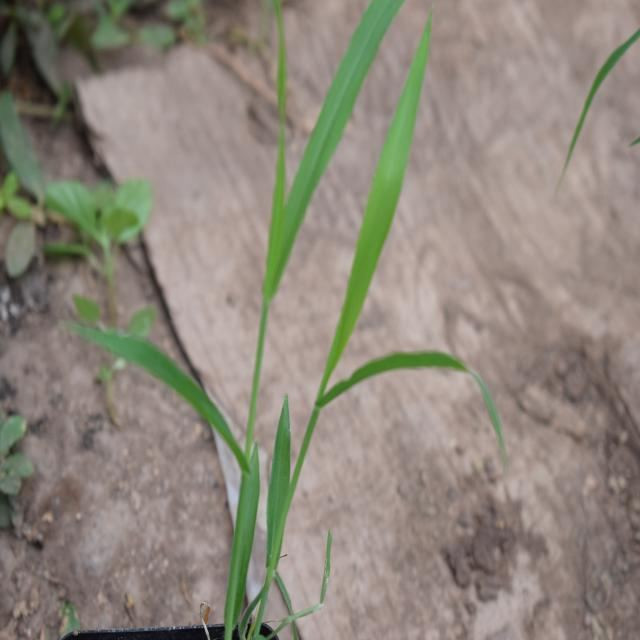crabgrass: (164, 0, 496, 531)
